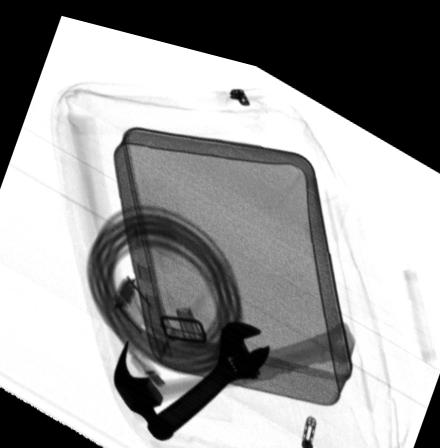Hammer: (113, 303, 355, 430)
Wrench: (148, 309, 269, 432)
